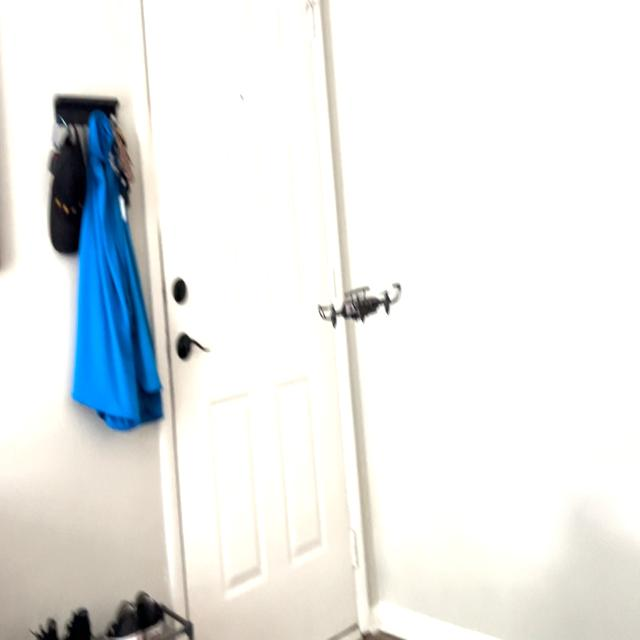drone: (303, 261, 413, 345)
